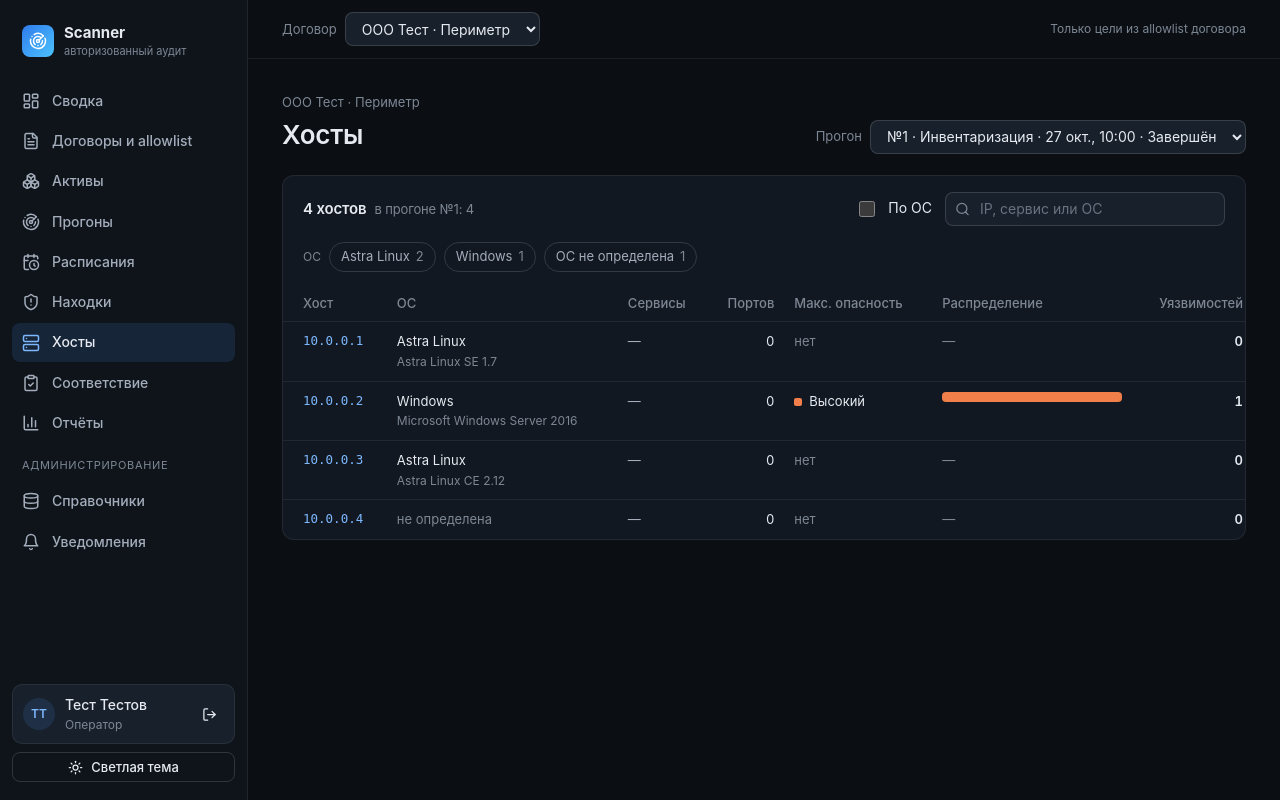
Scenario: показывает ОС хостов, фильтрует и группирует по семейству ОС
The image size is (1280, 800).
Check: the link "10.0.0.1" is shown, box [303, 333, 363, 348]
Check: the text "Astra Linux SE 1.7" is shown, box [397, 354, 497, 369]
Step 1. Click the button "Astra Linux 2" → [382, 256], box [329, 242, 436, 272]
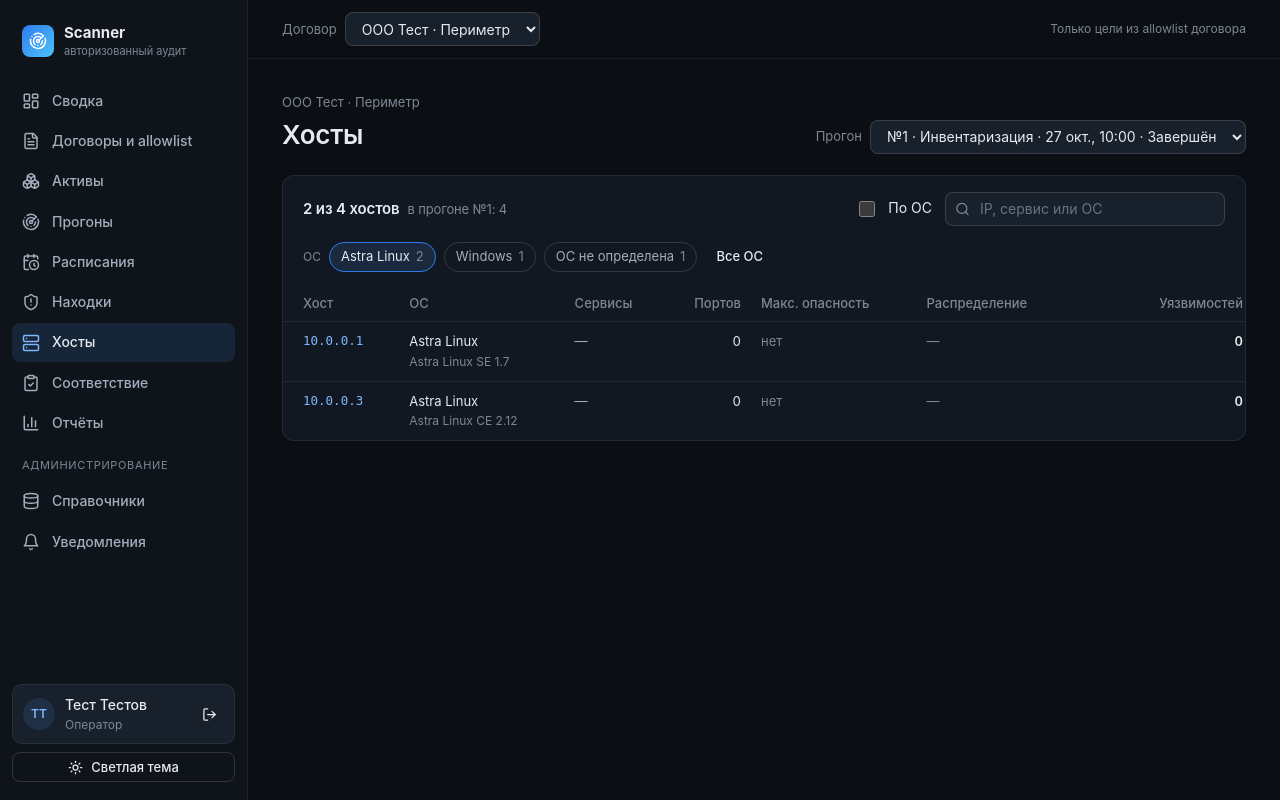
Step 2. Click the button "Все ОС" → [740, 256], box [705, 242, 774, 272]
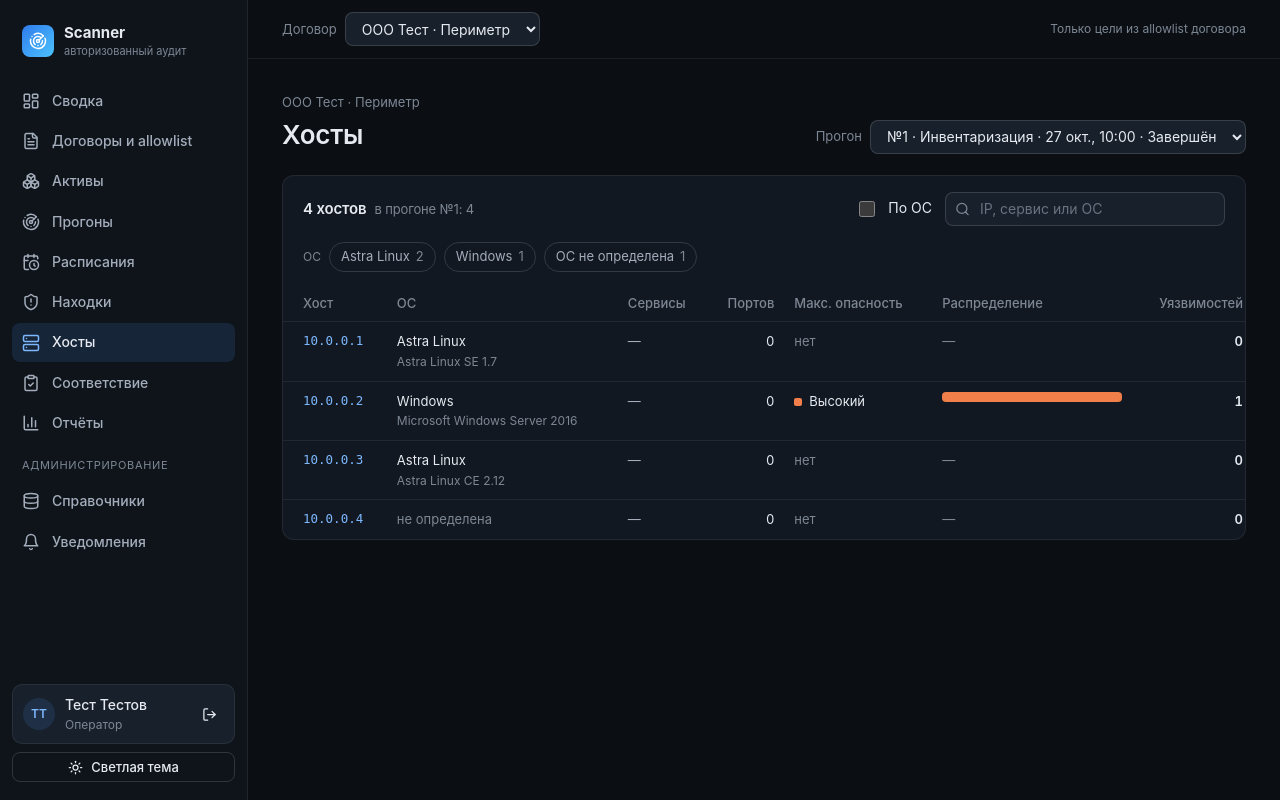
Step 3. Click the checkbox labelled "По ОС" → [867, 208], box [859, 200, 875, 216]
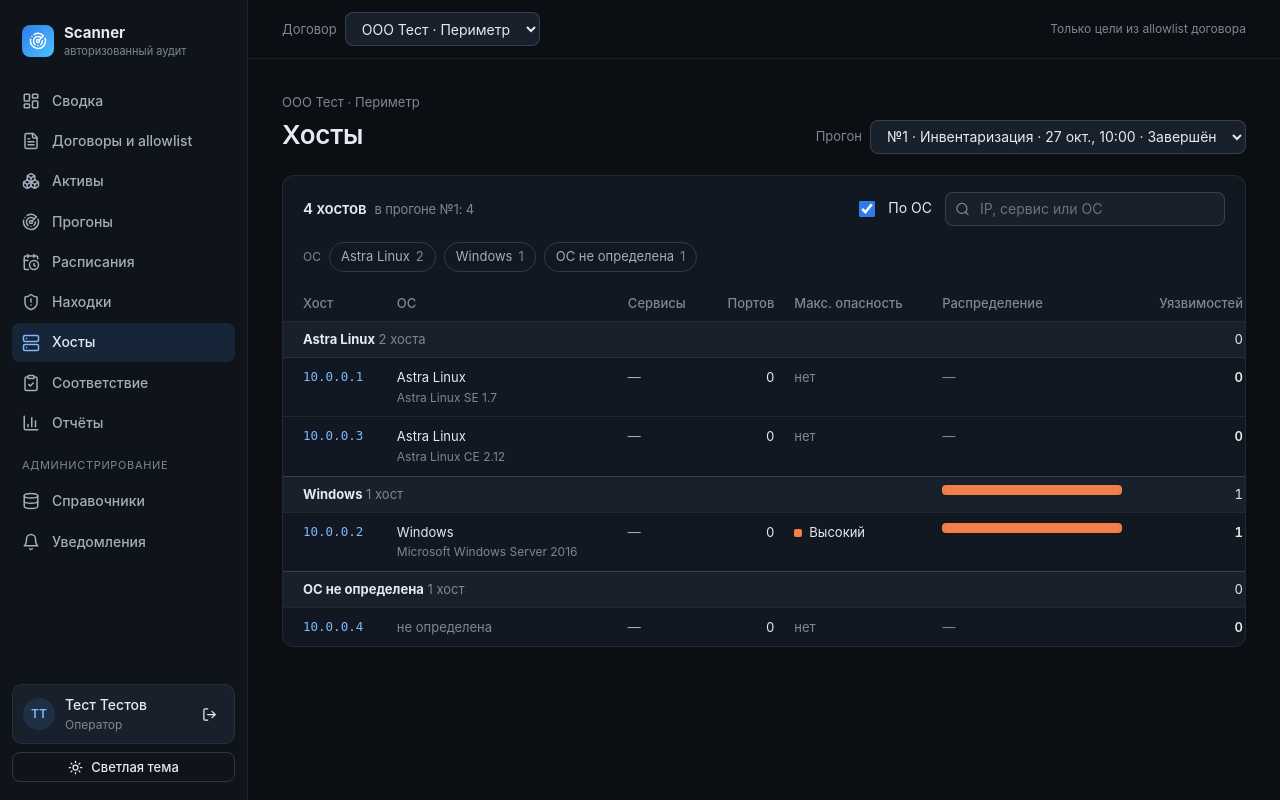
Check: the text "2 хоста" is shown, box [379, 331, 426, 347]
